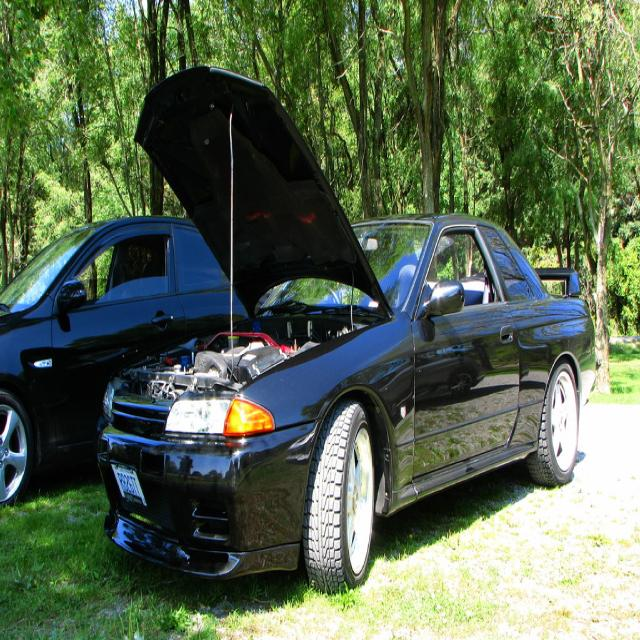car: (24, 60, 637, 593)
